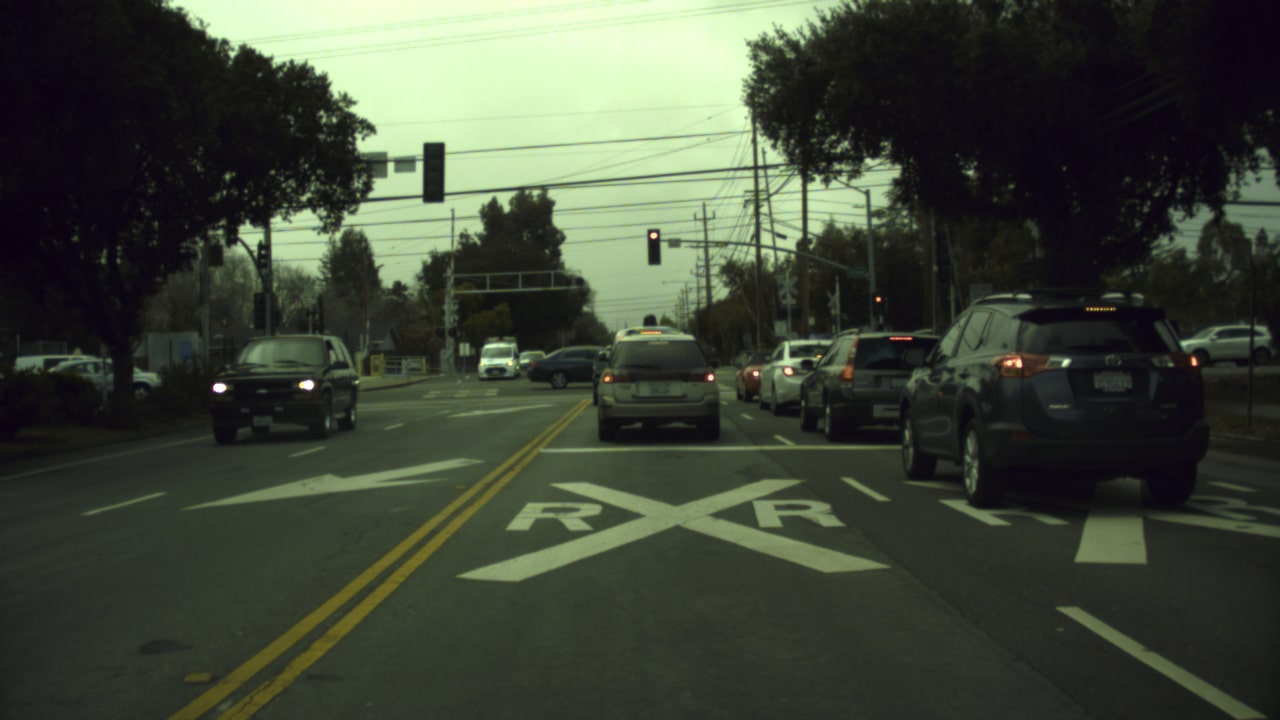signal: (646, 228, 661, 262), (872, 291, 885, 311)
